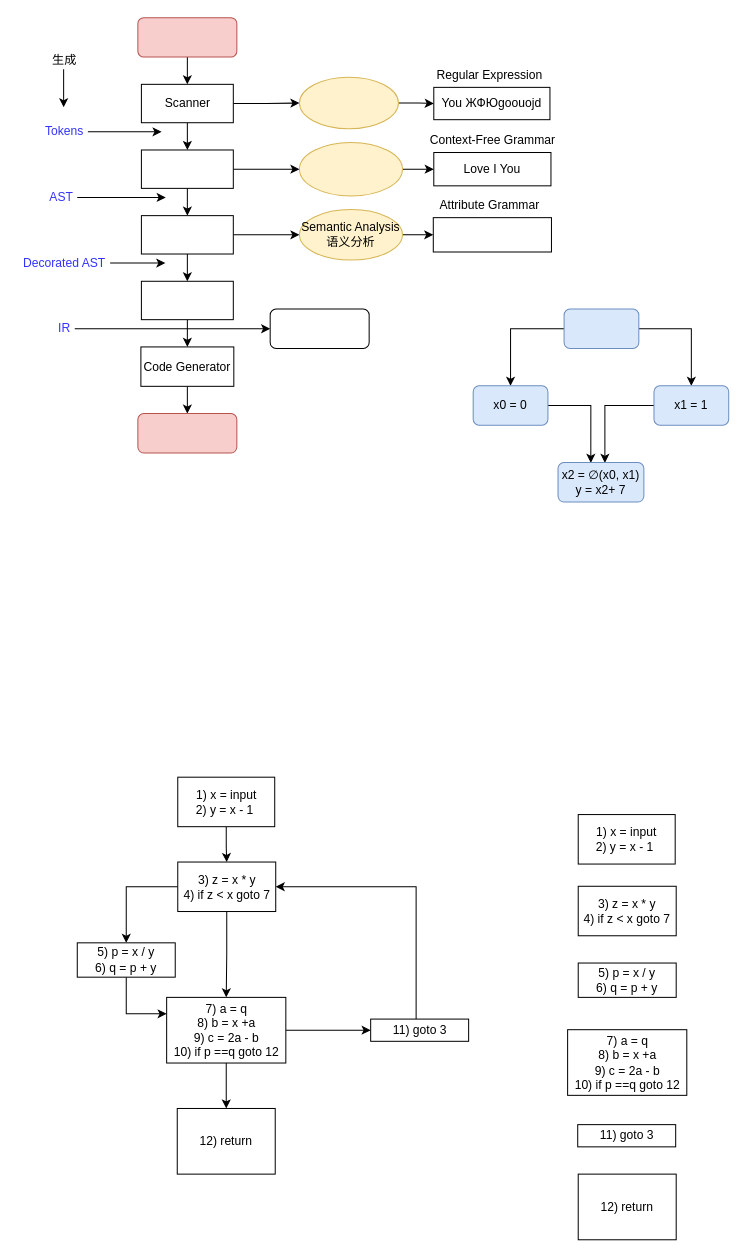
The diagram is 746 pixels wide and 1257 high, and some of its shapes have lost their labels. Here are the shapes that lost their labels. From the top down, the centre of each, then its label:
the point at 187,37: Source Code
the point at 348,102: Lexical Analysis 词法分析
the point at 186,168: Parser
the point at 350,168: Syntax Analysis 句法分析
the point at 186,234: Type Checker
the point at 491,234: Apples eat you
the point at 186,300: Translator
the point at 319,328: Static Analysis
the point at 601,328: if e
the point at 187,433: Machine Code
